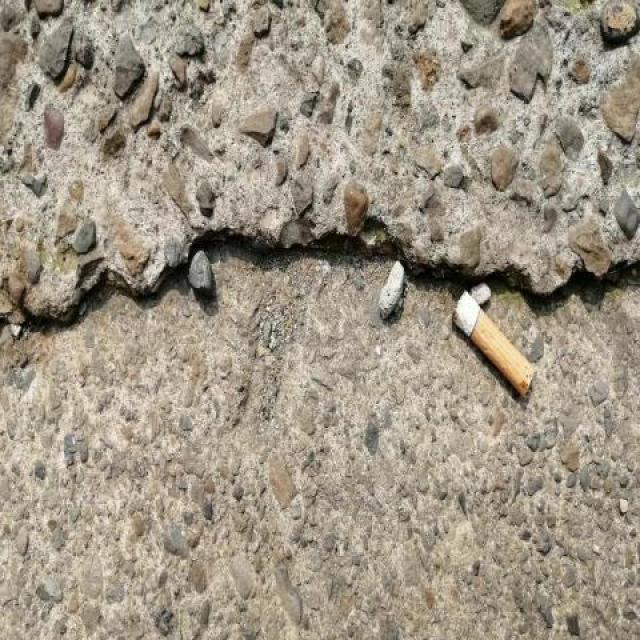non-organic waste: (448, 286, 536, 402)
